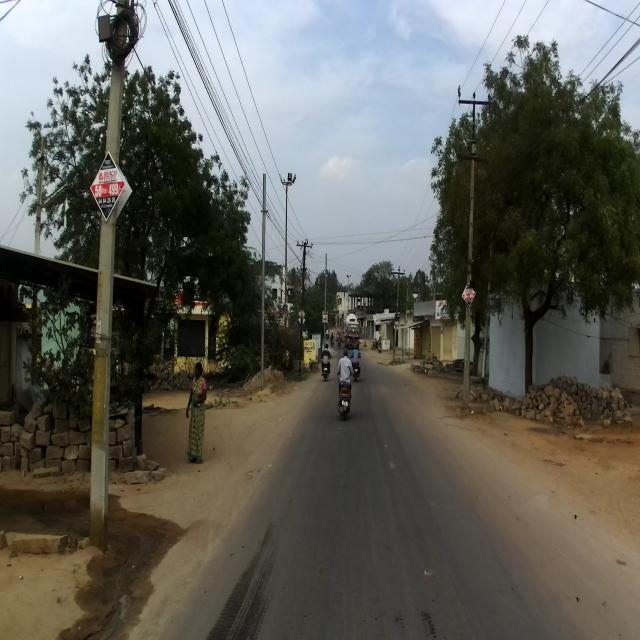electric pole ahead at: (80, 0, 138, 541), (454, 74, 496, 411)
person ahead at: (184, 356, 213, 466)
tree ahead at: (500, 80, 630, 381)
